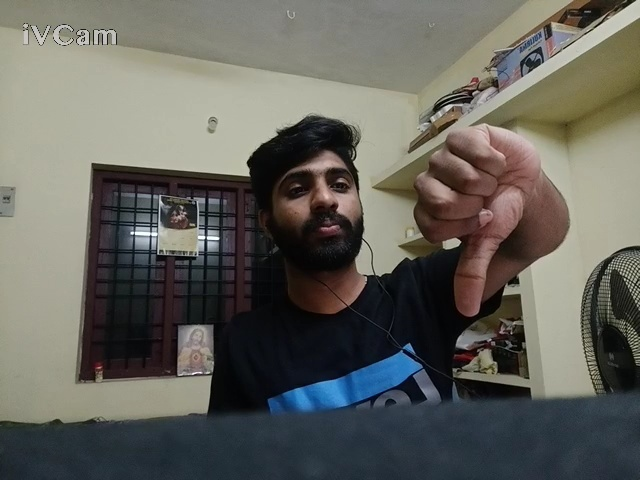No: (385, 119, 602, 336)
